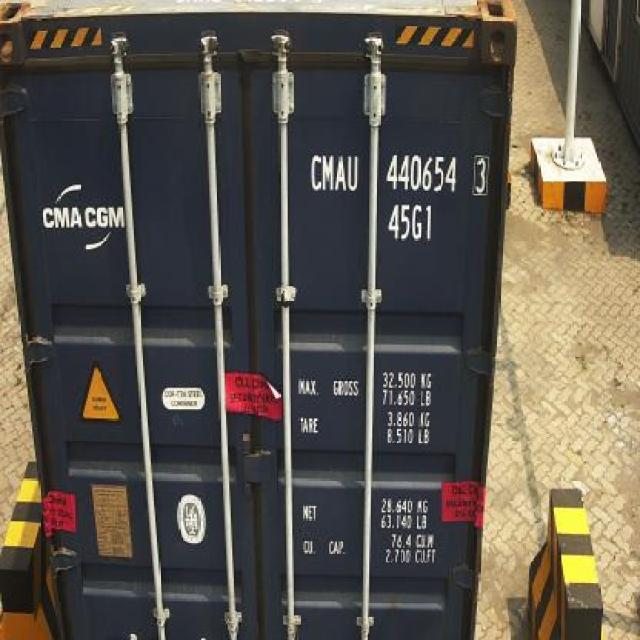ISO: (386, 203, 436, 239)
container_number: (304, 148, 490, 198)
